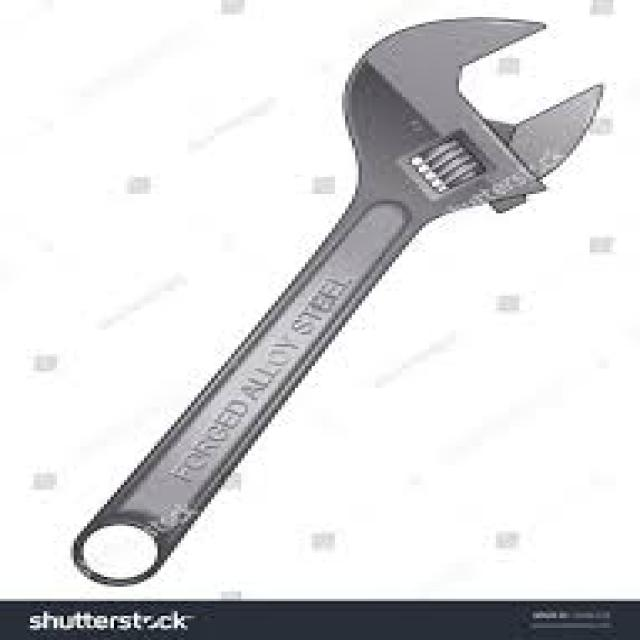wrench: (42, 0, 640, 575)
